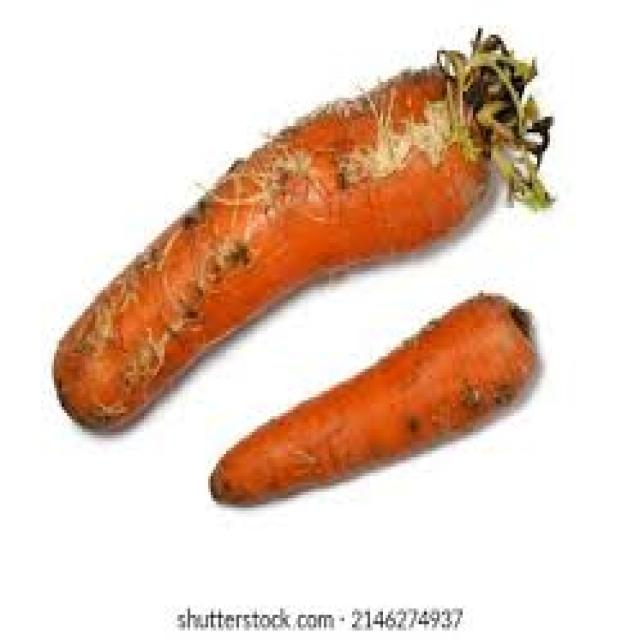Stale_Carrot: (54, 57, 535, 443), (197, 300, 540, 501)
